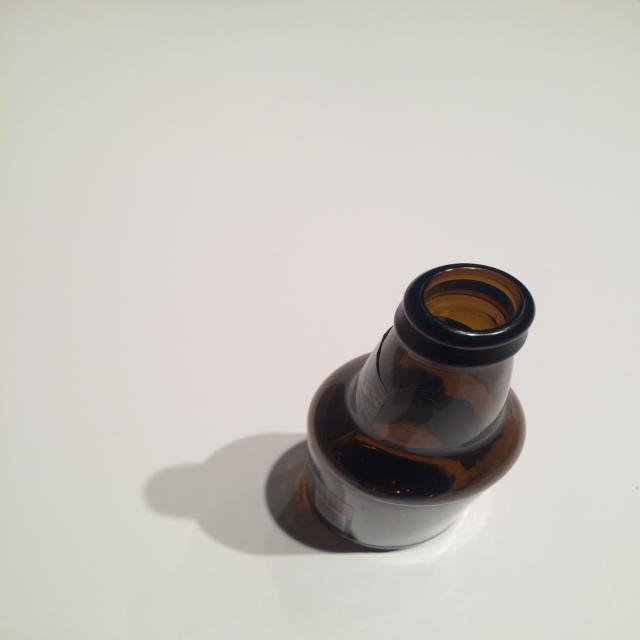glass: (300, 262, 536, 550)
